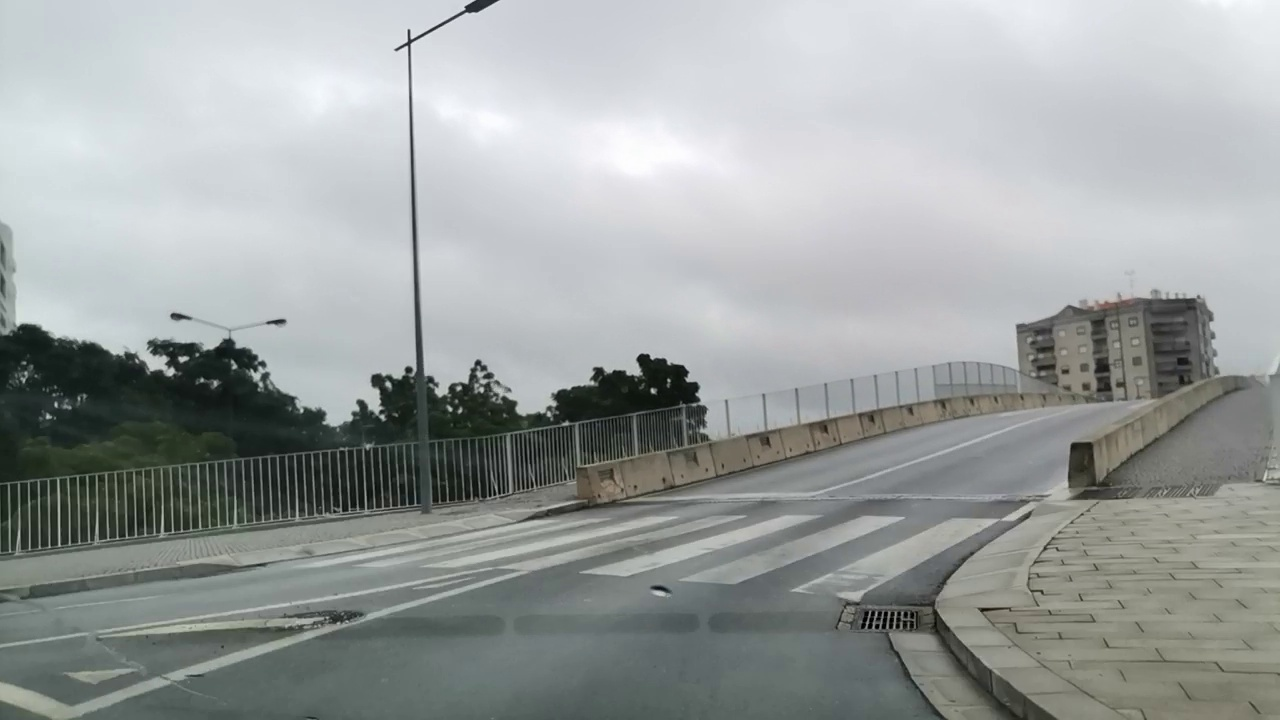Stairs: (303, 510, 1002, 598)
